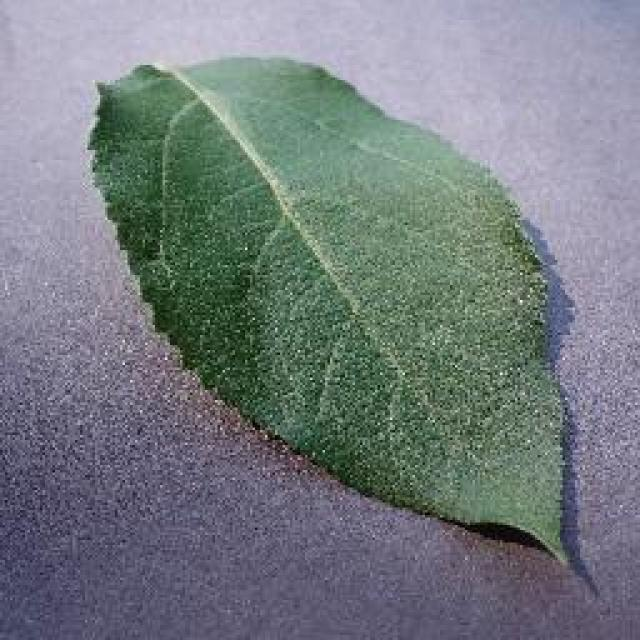apple healthy: (85, 50, 595, 590)
